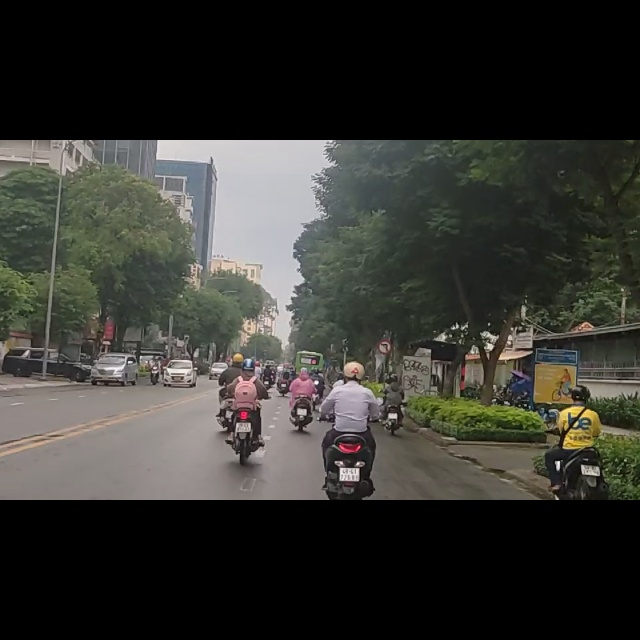bien_cam: (377, 356, 393, 382)
